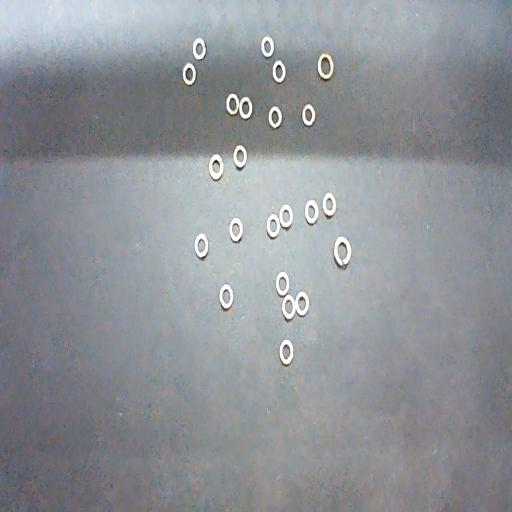washer: (334, 236, 351, 268), (209, 153, 224, 181), (318, 53, 333, 80), (219, 284, 233, 310), (304, 199, 318, 225), (322, 192, 336, 218), (276, 271, 290, 297), (282, 294, 296, 320), (295, 291, 309, 317), (280, 340, 294, 366), (194, 233, 208, 258), (266, 214, 280, 239), (279, 204, 293, 229), (302, 103, 316, 127), (268, 105, 282, 129), (233, 145, 247, 169), (192, 37, 206, 60), (272, 60, 286, 83), (226, 92, 239, 116), (230, 218, 243, 242), (183, 63, 196, 86), (261, 36, 274, 59), (240, 96, 252, 120)
